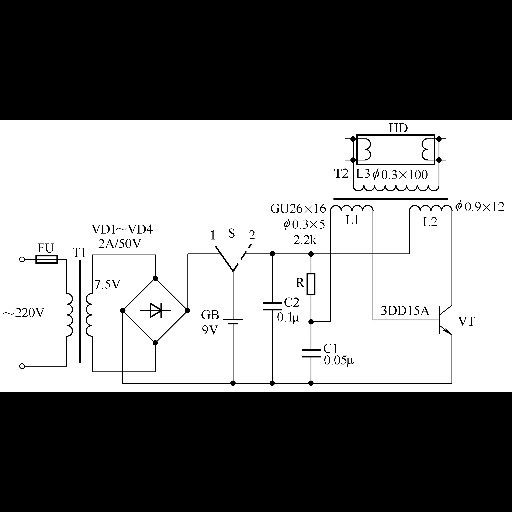capacitor: (298, 345, 322, 363), (257, 299, 283, 313)
firstresistance: (303, 269, 320, 299)
fuse: (30, 253, 62, 267)
npn: (432, 301, 457, 341)
transformer: (329, 182, 452, 214), (62, 280, 95, 353)
